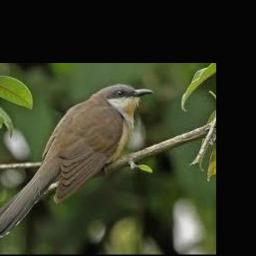Cuckoo: (0, 83, 154, 239)
